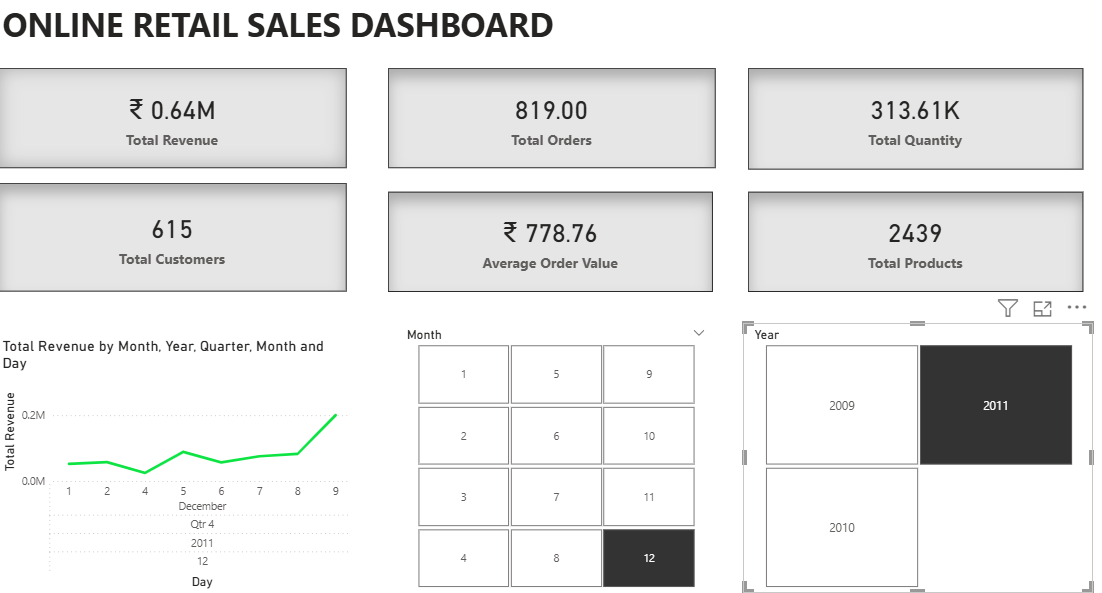

This screenshot's page, from the dashboard's own definition file:
{"tool":"powerbi","page":{"name":"Sales Overview","canvas":[1280,720],"ordinal":0},"visuals":[{"type":"card","fields":{"Values":["cleaned_sales_data.Total Revenue"]},"box":[13.5,80.7,398.6,114.9],"z":0},{"type":"card","fields":{"Values":["cleaned_sales_data.Total Orders"]},"box":[445.7,80,374.3,114.3],"z":1000},{"type":"card","fields":{"Values":["cleaned_sales_data.Total Products"]},"box":[876.8,216.4,382.7,114.9],"z":2000},{"type":"card","fields":{"Values":["cleaned_sales_data.Total Quantity"]},"box":[877.9,79.4,382.4,116.2],"z":3000},{"type":"card","fields":{"Values":["cleaned_sales_data.Total Customers"]},"box":[13.5,211.6,398.6,124.7],"z":4000},{"type":"card","fields":{"Values":["cleaned_sales_data.Average Order Value"]},"box":[445.7,221.4,371.4,114.3],"z":5000},{"type":"textbox","title":"ONLINE RETAIL SALES DASHBOARD","box":[0,13.2,655.9,51.5],"z":6000},{"type":"lineChart","fields":{"Y":["cleaned_sales_data.Total Revenue"],"Category":["cleaned_sales_data.MonthYear"]},"box":[0,376.5,398.5,325],"z":7000},{"type":"slicer","fields":{"Values":["cleaned_sales_data.Month"]},"box":[878,561.3,381.5,140.6],"z":8000},{"type":"slicer","fields":{"Values":["cleaned_sales_data.Year"]},"box":[876.8,349.7,382.7,199.3],"z":9000},{"type":"slicer","title":"Select year","fields":{"Values":["cleaned_sales_data.Country","cleaned_sales_data.Year"]},"box":[445.6,376.5,375,325],"z":10000},{"type":"pageNavigator","box":[663.2,13.2,583.8,52.9],"z":11000}]}

Visuals, with their boxes on the page's 1280x720 design canvas (x1, y1, x2, y2). These are canvas units, not pixel positions in the 1102x593 screenshot, which may show the page scaled, cropped or inside an application window:
card - cleaned_sales_data.Total Revenue: crop(14, 81, 412, 196)
card - cleaned_sales_data.Total Orders: crop(446, 80, 820, 194)
card - cleaned_sales_data.Total Products: crop(877, 216, 1260, 331)
card - cleaned_sales_data.Total Quantity: crop(878, 79, 1260, 196)
card - cleaned_sales_data.Total Customers: crop(14, 212, 412, 336)
card - cleaned_sales_data.Average Order Value: crop(446, 221, 817, 336)
"ONLINE RETAIL SALES DASHBOARD" textbox: crop(0, 13, 656, 65)
lineChart - cleaned_sales_data.Total Revenue x cleaned_sales_data.MonthYear: crop(0, 376, 398, 702)
slicer - cleaned_sales_data.Month: crop(878, 561, 1260, 702)
slicer - cleaned_sales_data.Year: crop(877, 350, 1260, 549)
"Select year" slicer: crop(446, 376, 821, 702)
pageNavigator: crop(663, 13, 1247, 66)
